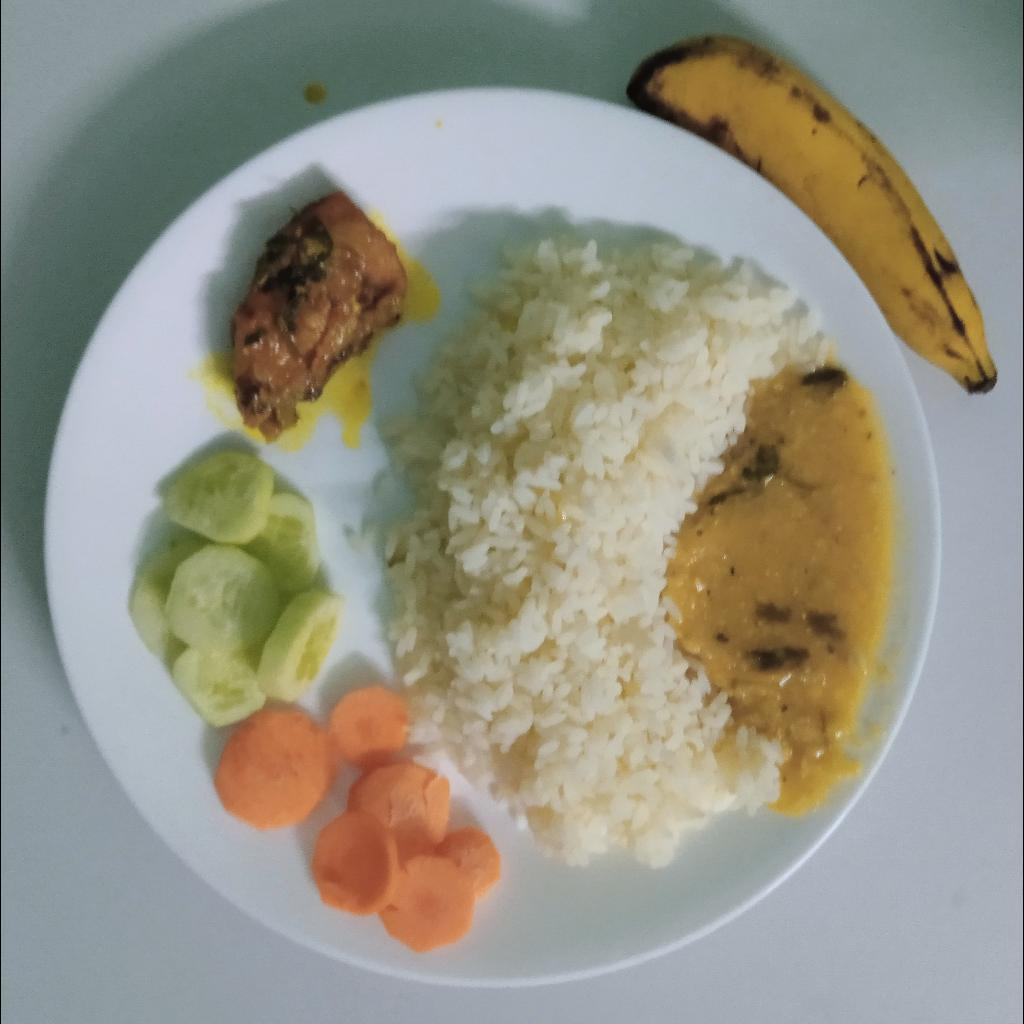banana: (623, 28, 1001, 393)
carrot: (212, 684, 503, 953)
cucumber: (125, 450, 348, 731)
daal: (670, 359, 893, 817)
rice: (388, 235, 827, 868)
tomato: (229, 190, 407, 436)
